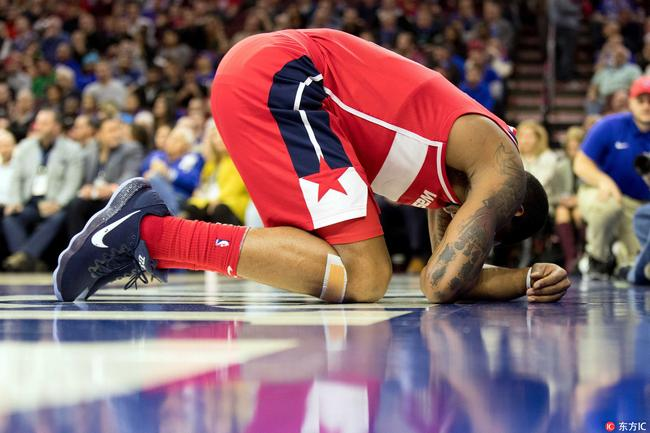10+: (2, 1, 650, 312)
down: (51, 25, 578, 306)
